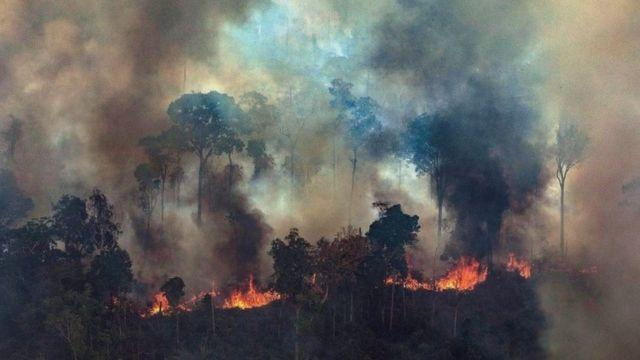fire: (44, 122, 571, 342), (108, 209, 550, 330)
